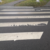zebra: (1, 9, 50, 40)
